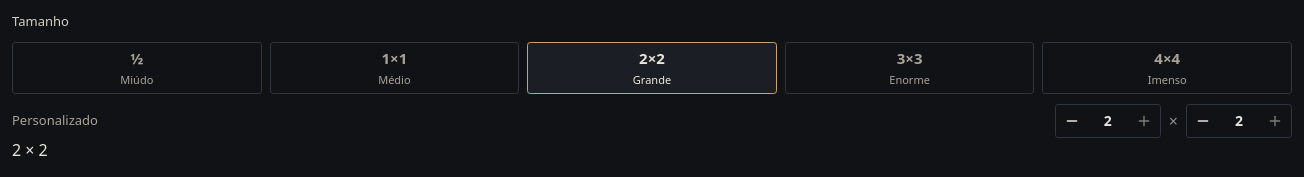
Test: SizeField › "Miúdo" is half a cell each way
This screenshot has width=1304, height=177.
Click the button "Miúdo ½".
click(137, 68)  # box left=12, top=42, right=262, bottom=94
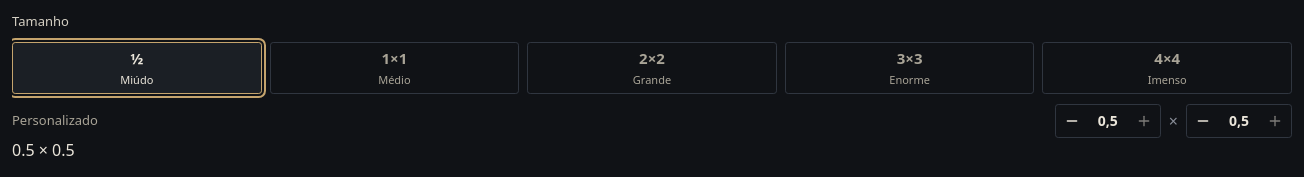
Expected: the text named "Tamanho escolhido" reads "0.5 × 0.5", left=12, top=138, right=75, bottom=160
